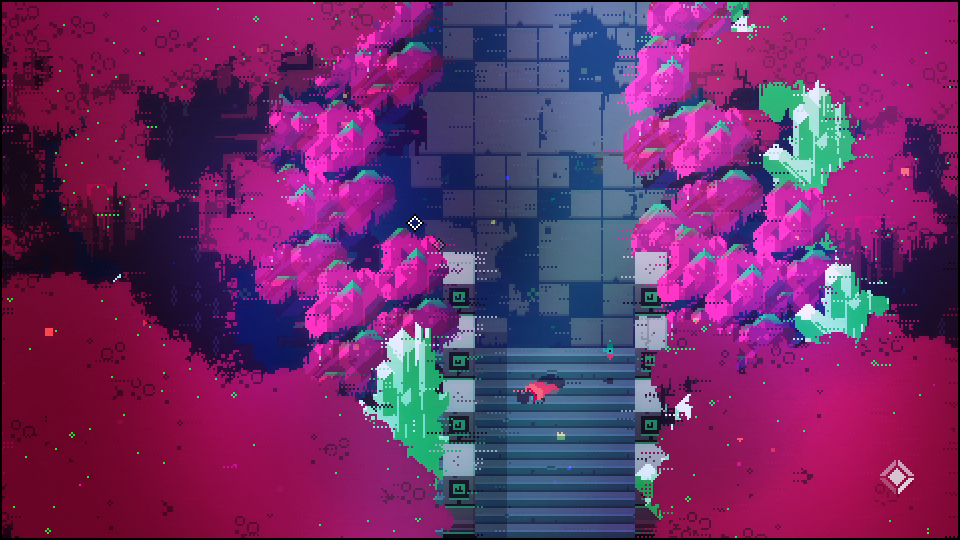player: (514, 379, 560, 406)
